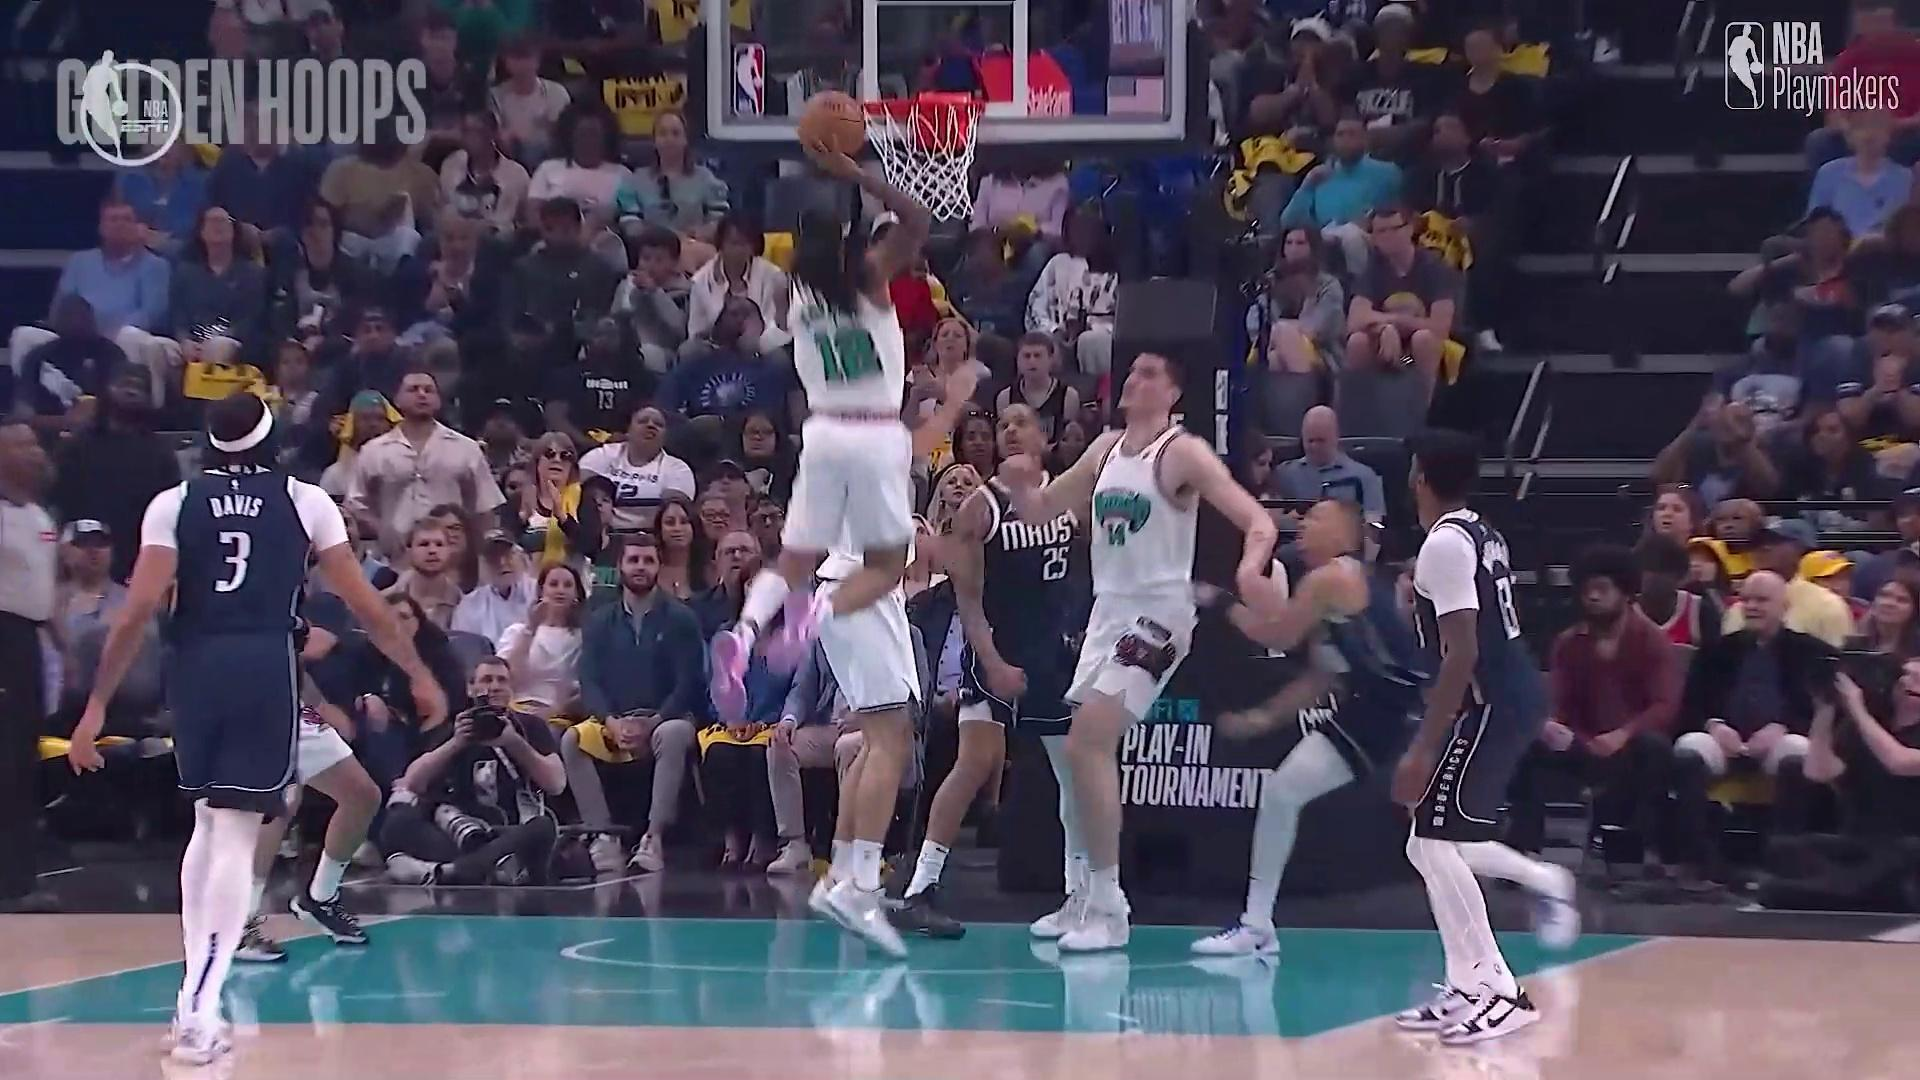ball: (800, 95, 864, 164)
hoop: (864, 88, 975, 181)
